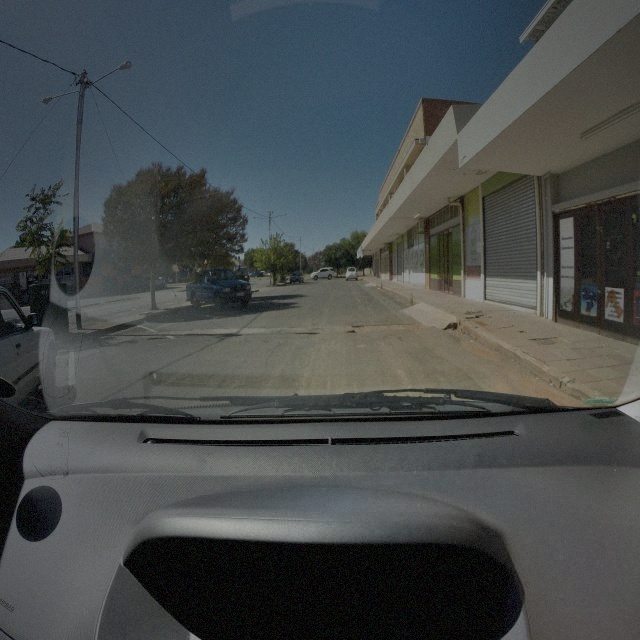pothole: (351, 320, 425, 336)
